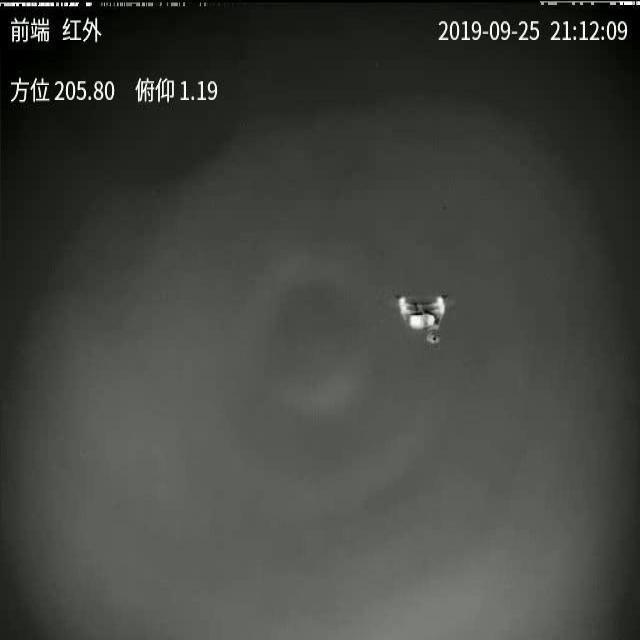drone: (389, 286, 454, 350)
